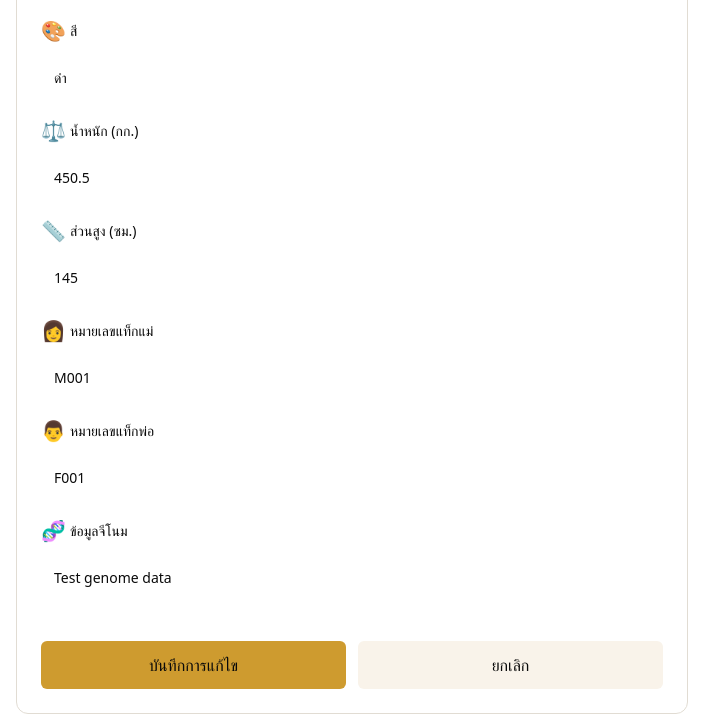
Test case: EditAnimalForm Component › Form Submission › displays loading state during submission
(page scrolled)
Step 1. Click the button "บันทึกการแก้ไข" → point(194, 665), box [41,641,346,689]
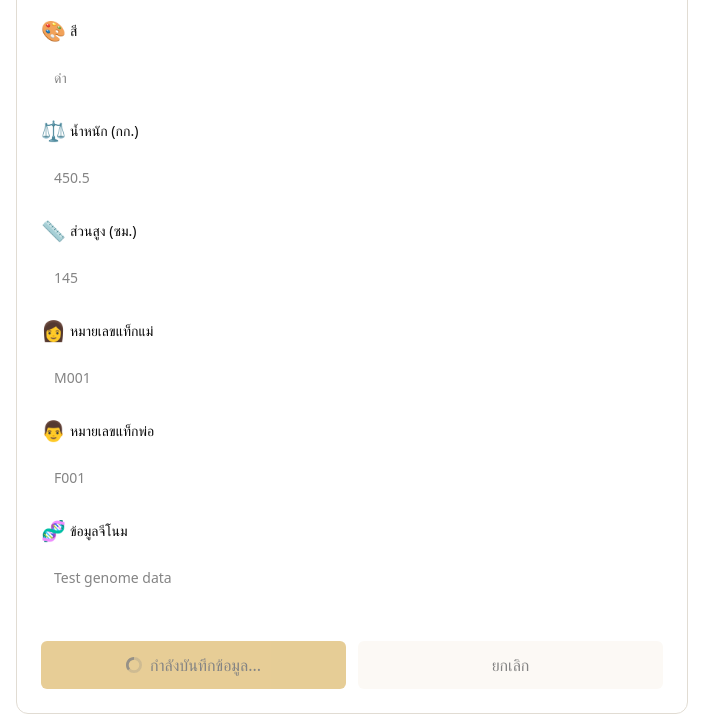
Check: the text "กำลังบันทึกข้อมูล..." is shown, box [126,653,261,677]
Check: the button with aria-label "บันทึกการแก้ไข" is disabled, box [41,641,346,689]
